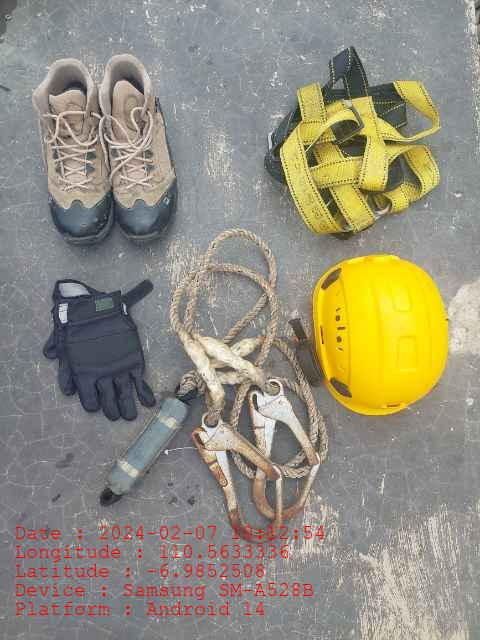HELM: (311, 254, 448, 415)
SARUNG_TANGAN: (63, 288, 157, 422)
SEPATU: (35, 58, 177, 242)
TAMBANG_SLING: (168, 229, 314, 525)
